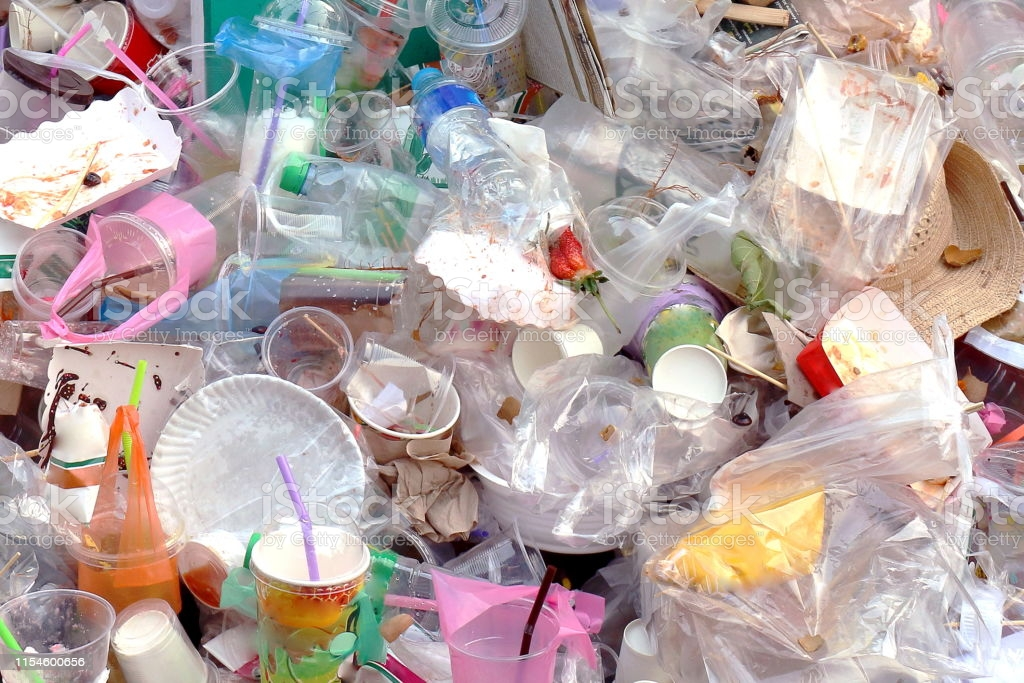plastic_bottle: (372, 22, 610, 379)
